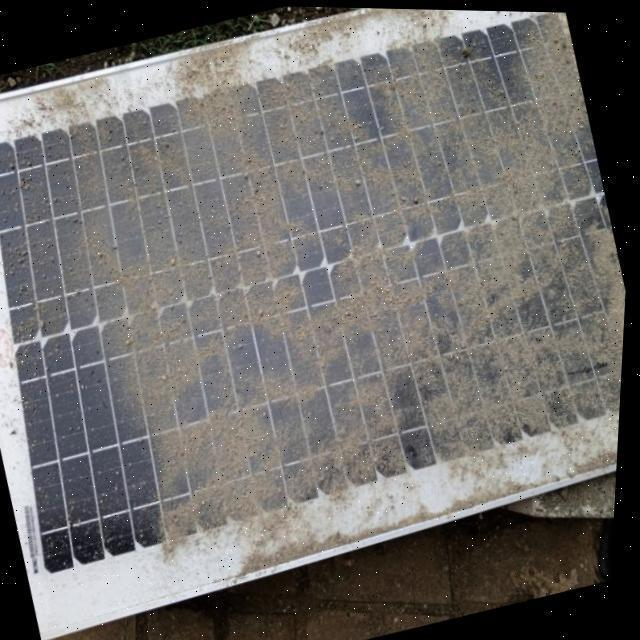Surface Contaminant: (0, 7, 629, 579)
